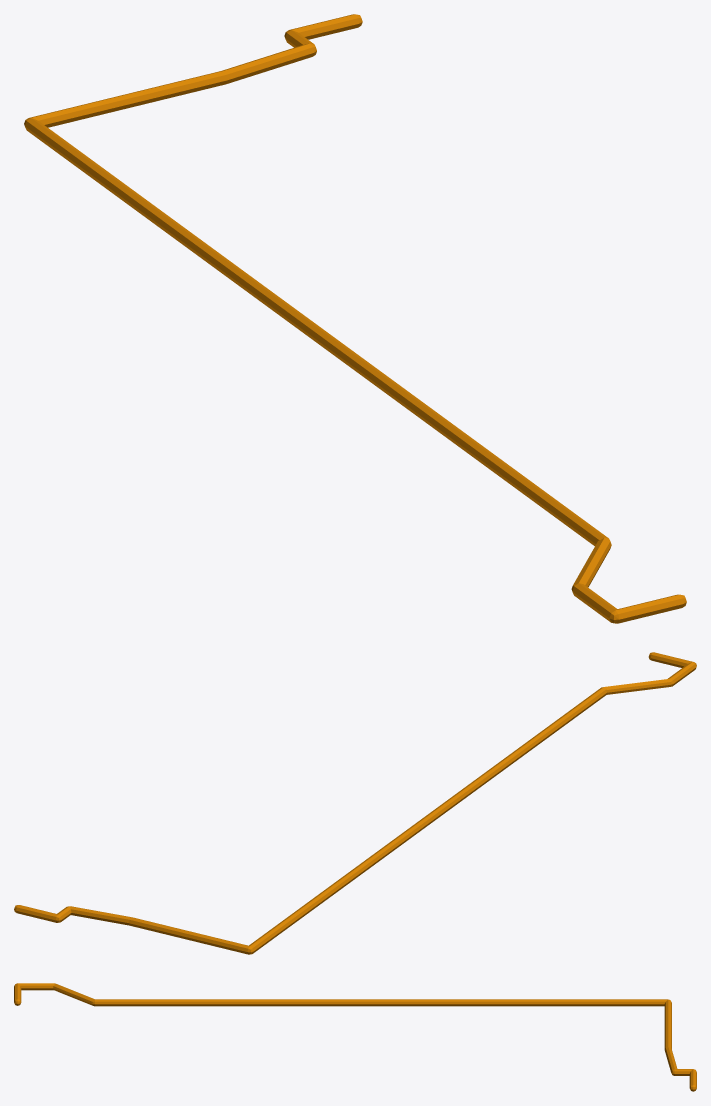
3 views of the same model, one above another, from view 1: azimuth 30°, elevation 25°; view 2: azimuth 150°, elevation 25°; view 3: azimuth 270°, elevation 25° (orthographic). The views are drawn at different scales.
Size of the model in its own units: 668 by 20 by 1846.
